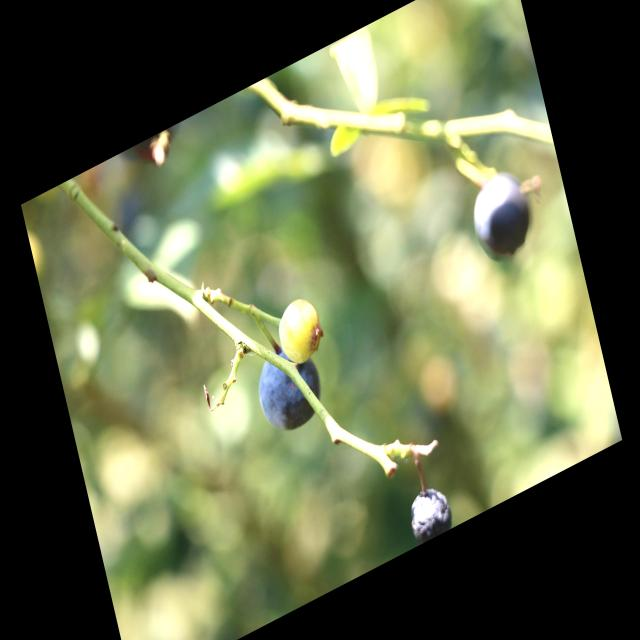blueberry: (247, 326, 331, 447), (462, 156, 544, 277), (399, 474, 459, 550)
blueberry-unripe: (271, 289, 326, 371)
